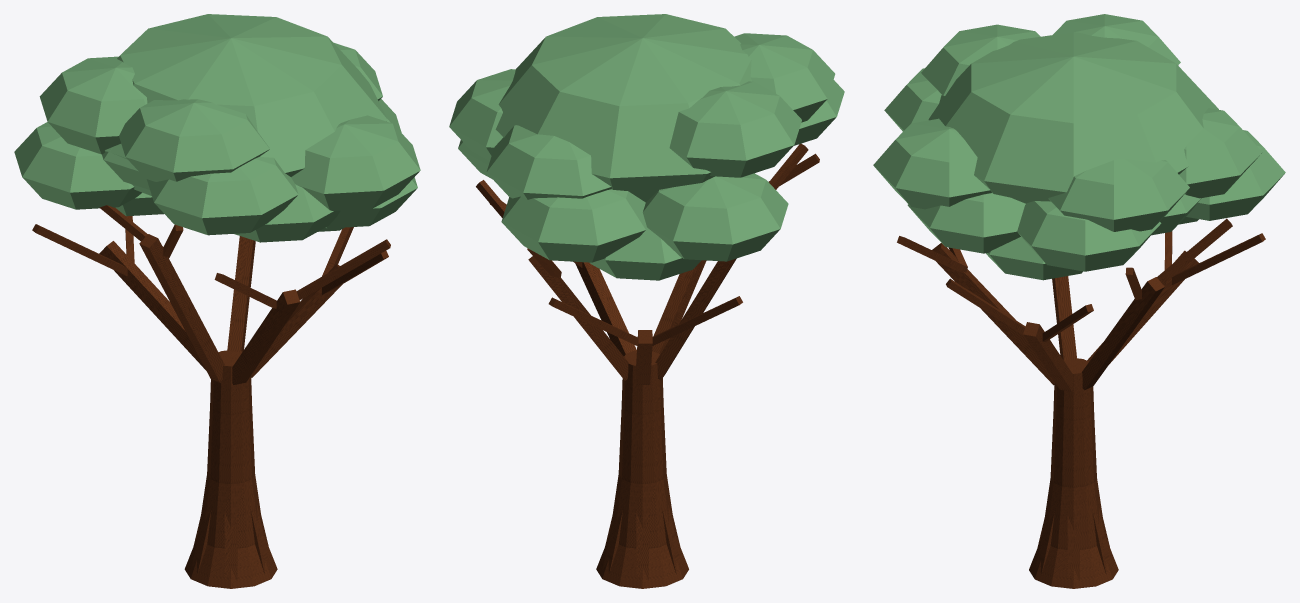
File: fantasy-mmo-city-and-townsfolk-city-broadleaf-tree-0328372c.glb
3 renders of one model, left to right at view 1: azimuth 30°, elevation 25°; view 2: azimuth 150°, elevation 25°; view 3: azimuth 270°, elevation 25°, orthographic. The views are drawn at different scales.
Parts seen in each view (by area): view 1: city-broadleaf-tree; view 2: city-broadleaf-tree; view 3: city-broadleaf-tree.
Part boxes in pixels (bbox=[...]): city-broadleaf-tree: bbox=[14, 14, 420, 588]; city-broadleaf-tree: bbox=[449, 14, 844, 588]; city-broadleaf-tree: bbox=[873, 14, 1285, 588].
Bounding box in the file's own units: 5.29 × 7.82 × 5.68.
2 materials, 1 textured.
